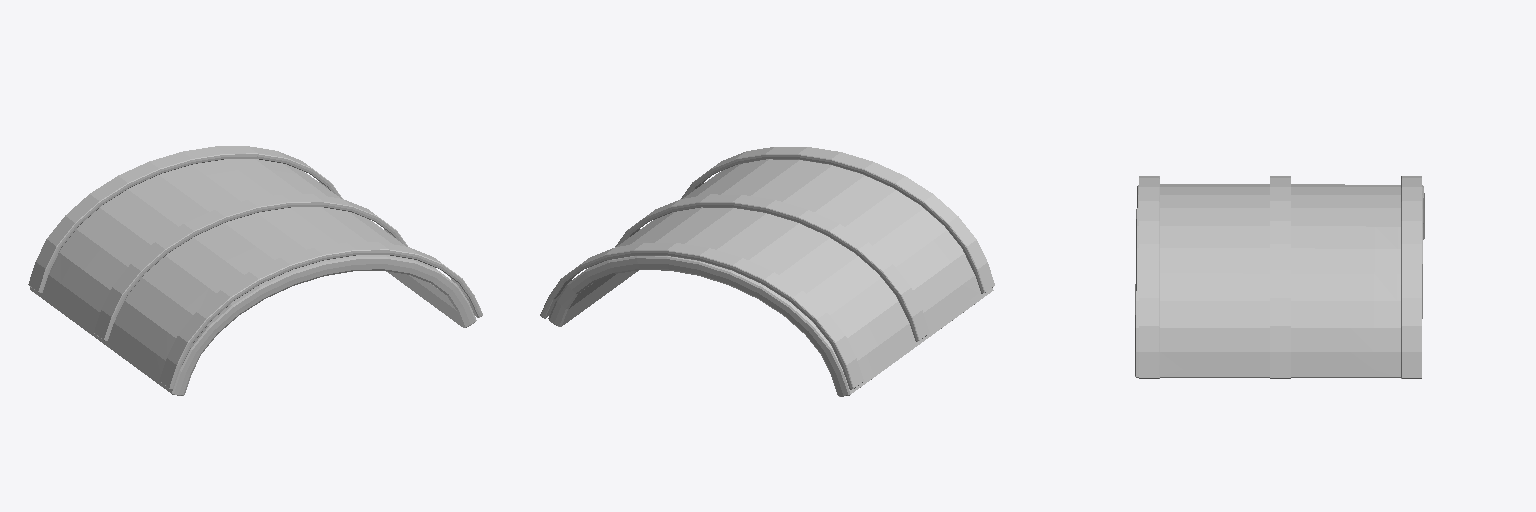
Rendered from frontRoofHP.obj.
The picture shows the model from 3 angles: view 1: azimuth 30°, elevation 25°; view 2: azimuth 150°, elevation 25°; view 3: azimuth 270°, elevation 25°; orthographic projection.
Parts seen in each view (by area): view 1: group28 sweep5 polySurface469, group28 sweep5 polySurface471, group28 sweep5 polySurface472, polySurface470 group28 sweep5; view 2: group28 sweep5 polySurface469, polySurface470 group28 sweep5, group28 sweep5 polySurface472, group28 sweep5 polySurface471; view 3: group28 sweep5 polySurface469, polySurface470 group28 sweep5, group28 sweep5 polySurface472, group28 sweep5 polySurface471.
Part boxes in pixels (x1,y1,x2,y2): group28 sweep5 polySurface469: (30, 159, 476, 395); group28 sweep5 polySurface471: (159, 242, 482, 388); group28 sweep5 polySurface472: (94, 194, 407, 340); polySurface470 group28 sweep5: (28, 146, 342, 292); group28 sweep5 polySurface469: (548, 159, 993, 396); polySurface470 group28 sweep5: (540, 243, 863, 389); group28 sweep5 polySurface472: (615, 194, 929, 341); group28 sweep5 polySurface471: (681, 147, 994, 293); group28 sweep5 polySurface469: (1135, 184, 1424, 377); polySurface470 group28 sweep5: (1401, 176, 1421, 378); group28 sweep5 polySurface472: (1270, 176, 1290, 378); group28 sweep5 polySurface471: (1139, 176, 1159, 378).
Size of the model in its own units: 4.79 by 1.55 by 3.83.